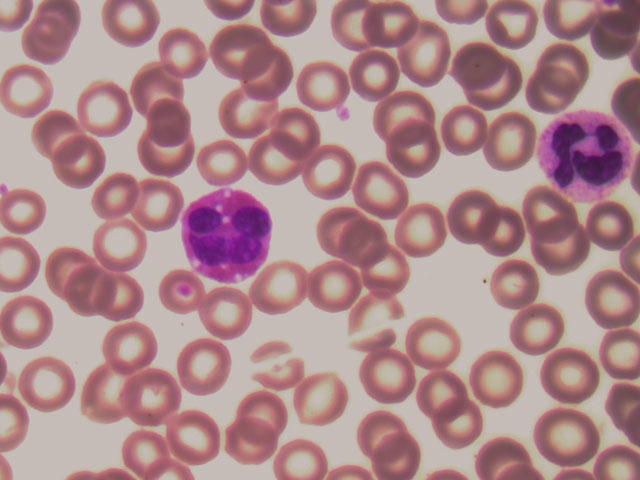Platelets: (77, 79, 135, 140), (1, 60, 58, 121), (539, 406, 601, 462), (17, 355, 77, 411), (163, 409, 223, 465), (583, 267, 638, 328), (535, 225, 590, 286), (518, 181, 573, 242), (584, 197, 639, 258), (397, 22, 452, 83), (51, 135, 109, 187), (30, 110, 88, 162), (86, 167, 144, 219), (130, 179, 188, 231), (93, 217, 151, 269), (40, 242, 98, 294), (59, 264, 117, 316), (99, 319, 157, 371), (77, 366, 135, 418), (125, 373, 183, 425), (177, 340, 235, 392), (200, 289, 258, 341), (151, 269, 209, 321), (1, 295, 58, 347), (250, 337, 304, 391), (238, 379, 292, 433), (223, 414, 277, 468), (296, 371, 350, 425), (353, 402, 407, 456), (367, 426, 421, 480), (436, 400, 490, 454), (417, 370, 471, 424), (364, 352, 418, 406), (407, 316, 461, 370), (351, 291, 405, 345), (304, 261, 358, 315), (253, 261, 307, 315), (358, 246, 412, 300), (338, 218, 392, 272), (312, 203, 366, 257), (352, 162, 406, 216), (303, 145, 357, 199), (246, 135, 300, 189), (268, 103, 322, 157), (221, 89, 275, 143), (196, 127, 250, 181), (140, 134, 194, 188), (143, 94, 197, 148), (131, 61, 185, 115), (157, 26, 211, 80), (24, 16, 78, 70), (211, 20, 265, 74), (237, 44, 291, 98), (295, 54, 349, 108), (348, 47, 402, 101), (377, 83, 431, 137), (388, 120, 442, 174), (437, 105, 491, 159), (481, 112, 535, 166), (445, 191, 499, 245), (398, 204, 452, 258), (476, 202, 530, 256), (487, 260, 541, 314), (510, 301, 564, 355), (544, 346, 598, 400), (468, 351, 522, 405), (104, 1, 158, 54), (119, 425, 170, 480), (1, 186, 55, 236), (484, 1, 540, 49), (521, 70, 578, 117), (537, 44, 594, 91), (447, 40, 504, 87), (470, 64, 527, 111), (367, 1, 417, 54), (331, 1, 381, 54), (91, 273, 146, 320), (272, 435, 327, 480), (474, 433, 529, 478), (595, 325, 640, 377), (333, 101, 352, 124)
WBC: (179, 187, 272, 279), (539, 106, 632, 198)
